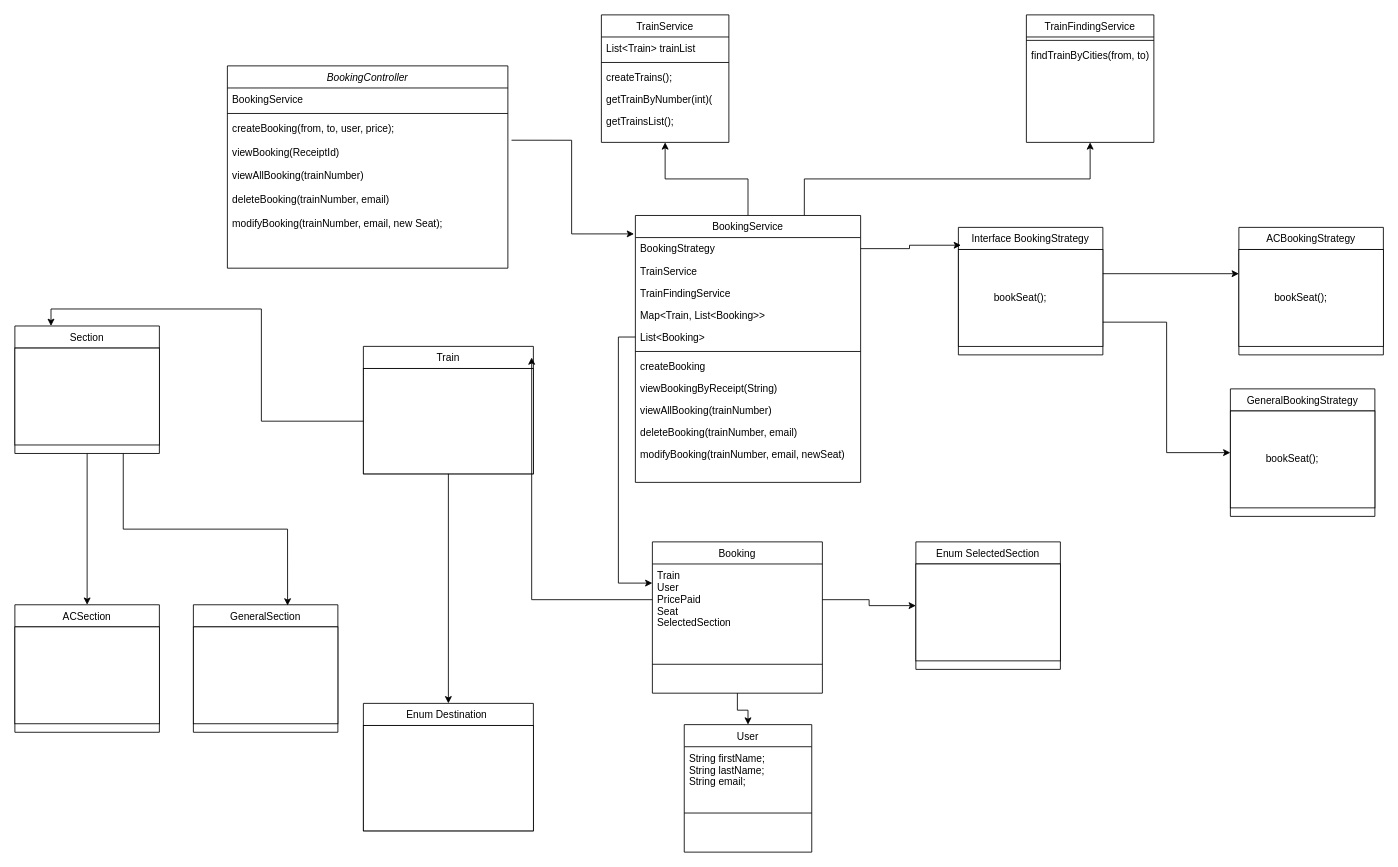
The diagram is 1398 pixels wide and 867 high, and some of its shapes have lost their labels. Here are the shapes that lost their labels. From the top down, the centre of each, then its label:
At (x=86, y=396): "List<Seat> seats findOneAvailableSeat();".
At (x=448, y=421): "Destination to; Destination from; Section AC; Section General; int trainNumber;".
At (x=987, y=612): "AC, GENERAL".
At (x=86, y=675): "createAllSeats() getSeat(seatNumber);".
At (x=265, y=675): "createAllSeats(); getSeat(seatNumber(".
At (x=448, y=778): "LONDON, PARIS, KYIV, OSLO, BERLIN, MUNICH".
